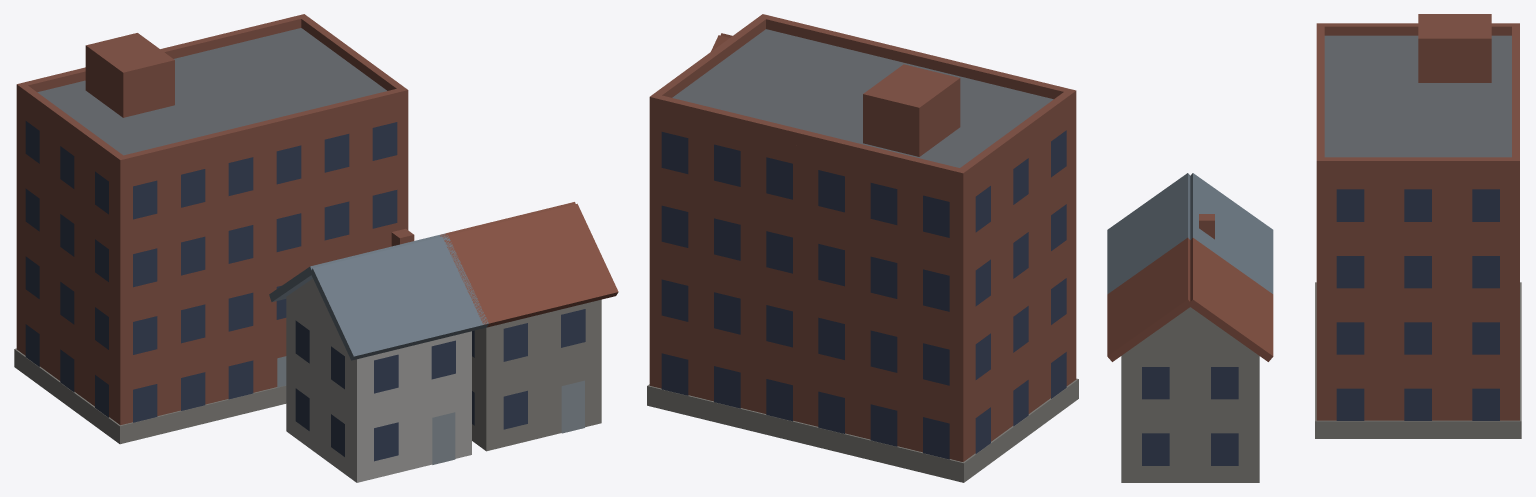
Rendered from house_lvl3.glb.
3 renders of one model, left to right at view 1: azimuth 30°, elevation 25°; view 2: azimuth 150°, elevation 25°; view 3: azimuth 270°, elevation 25°, orthographic. The views are drawn at different scales.
Visible parts, largest first — view 1: house; view 2: house; view 3: house.
Boxes of the visible parts, <box> form: house: <box>14,14,618,482</box>; house: <box>647,14,1078,482</box>; house: <box>1107,14,1521,482</box>.
Bounding box in the file's own units: 0.9964 × 0.7737 × 0.929.
